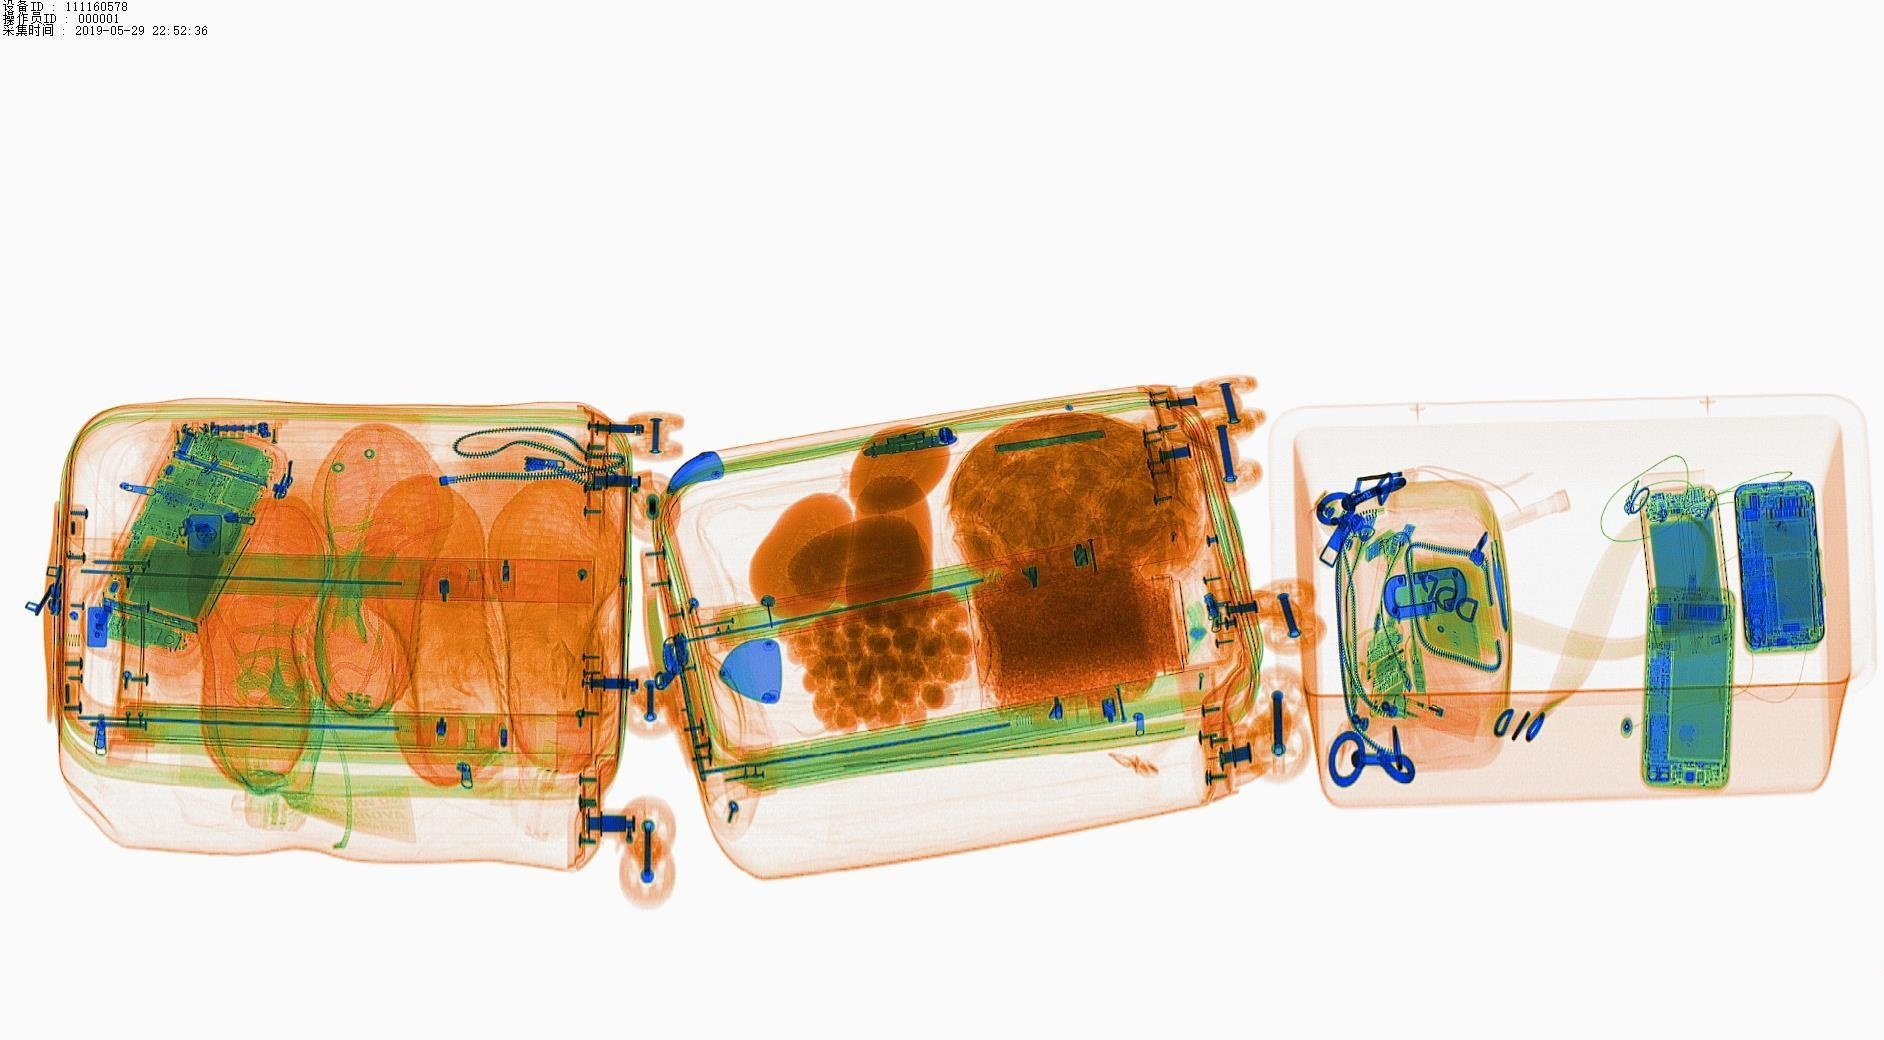NonmetallicFire: (1367, 685, 1509, 753)
